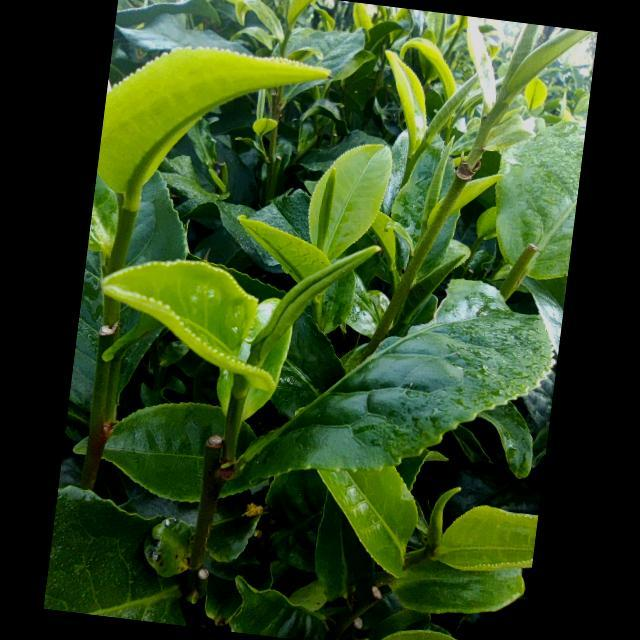Stem: (227, 388, 249, 410), (406, 157, 419, 168)
